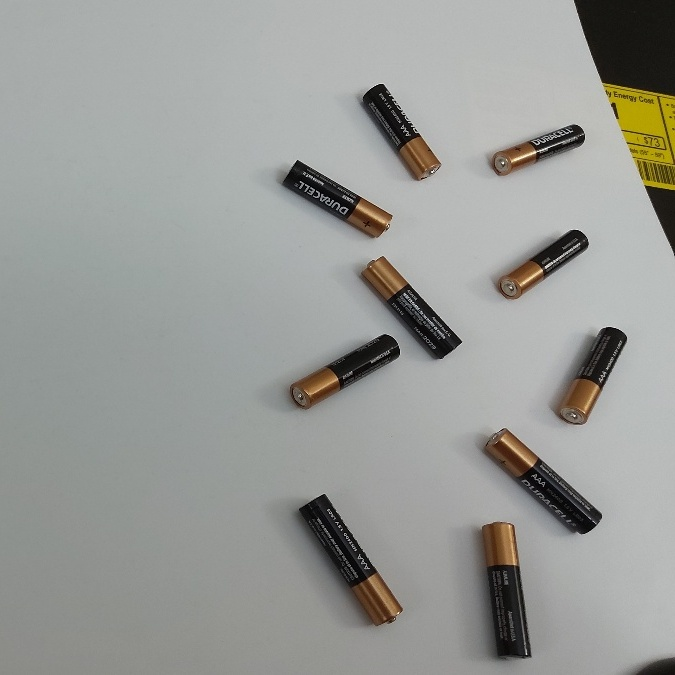battery: (293, 490, 407, 633), (479, 423, 603, 537), (360, 254, 471, 366), (357, 68, 444, 185), (278, 158, 396, 243), (287, 330, 401, 415), (551, 318, 629, 431), (477, 519, 539, 661), (496, 225, 590, 307), (488, 117, 590, 179)
